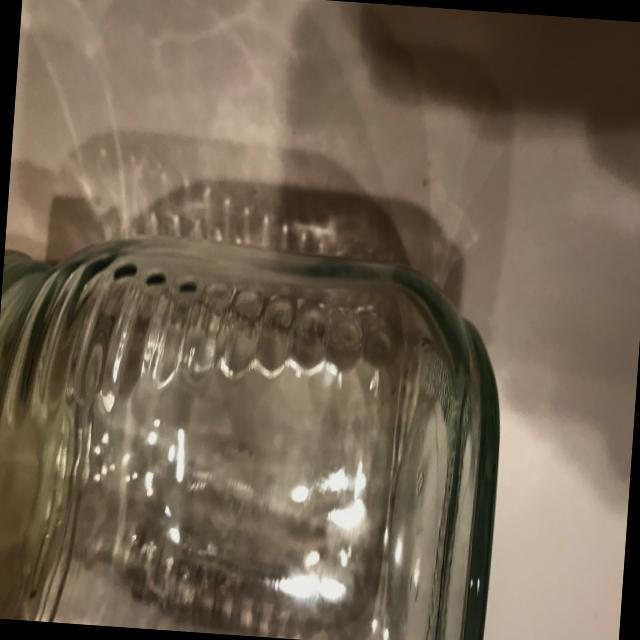Glass: (0, 217, 521, 640)
